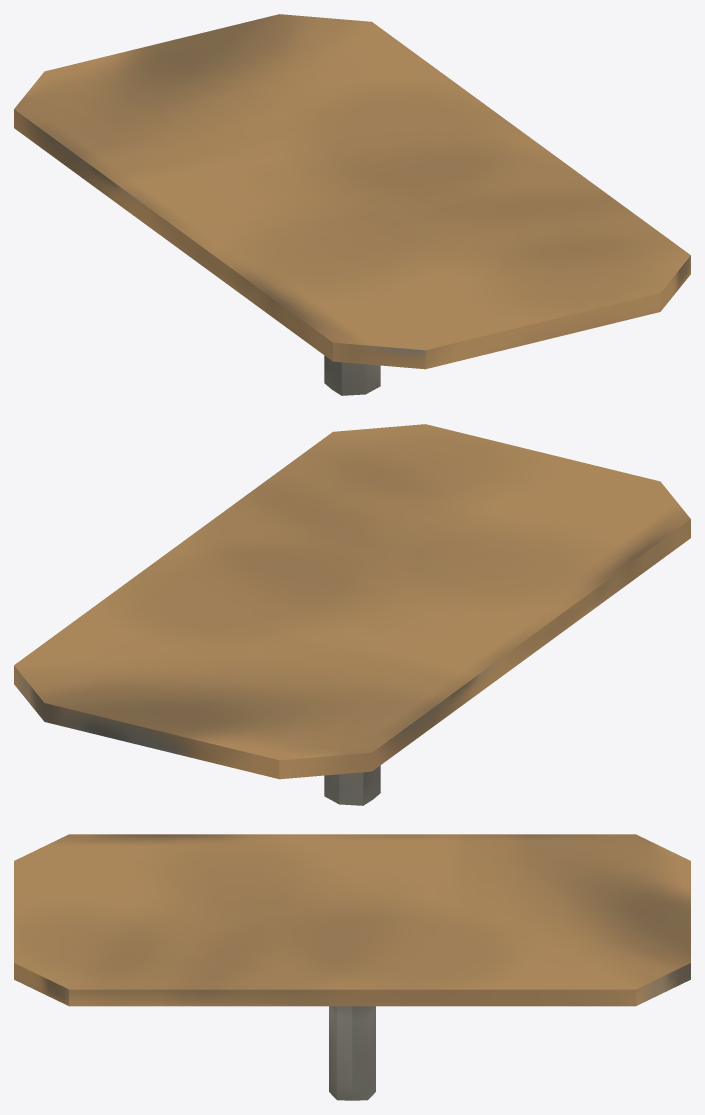
Rendered from table.glb.
The picture shows the model from 3 angles, top to bottom: view 1: azimuth 30°, elevation 25°; view 2: azimuth 150°, elevation 25°; view 3: azimuth 270°, elevation 25°; orthographic projection. The views are drawn at different scales.
Parts seen in each view (by area): view 1: Table; view 2: Table; view 3: Table.
Boxes of the visible parts, x1,y1,x2,y2 form: Table: [14, 14, 690, 395]; Table: [14, 424, 690, 805]; Table: [14, 834, 690, 1100].
Bounding box in the file's own units: 1.57 × 0.8461 × 2.89.
Materials: 1 (1 with a texture image).
